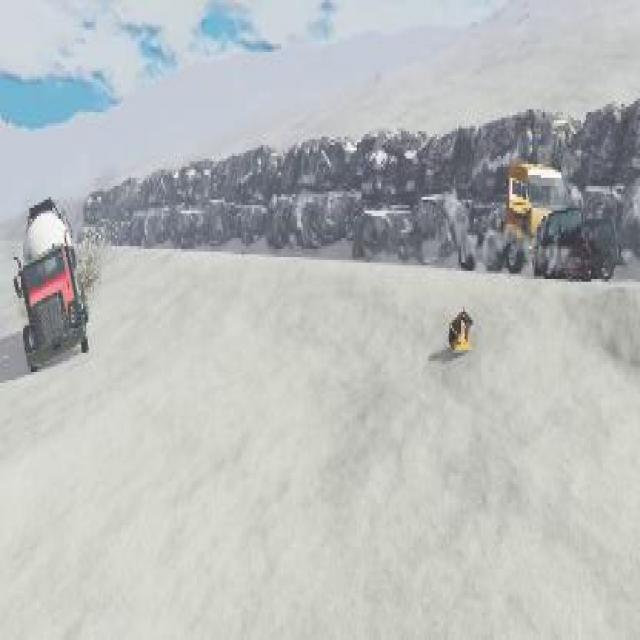accident: (454, 156, 617, 276)
